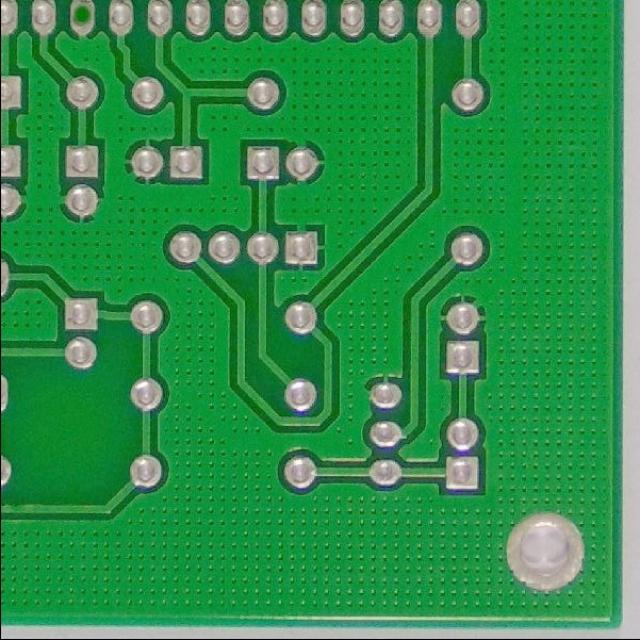Missing_Hole: (64, 0, 99, 37)
